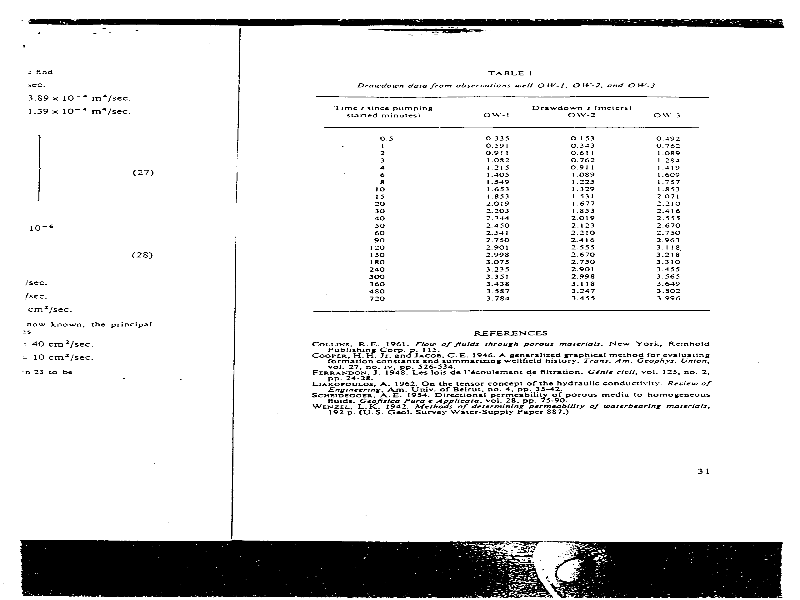table: (317, 95, 709, 311)
